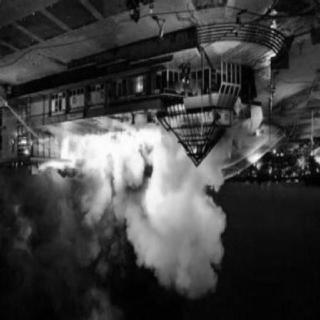Fire: (42, 112, 196, 216)
Smoke: (139, 217, 220, 281)
